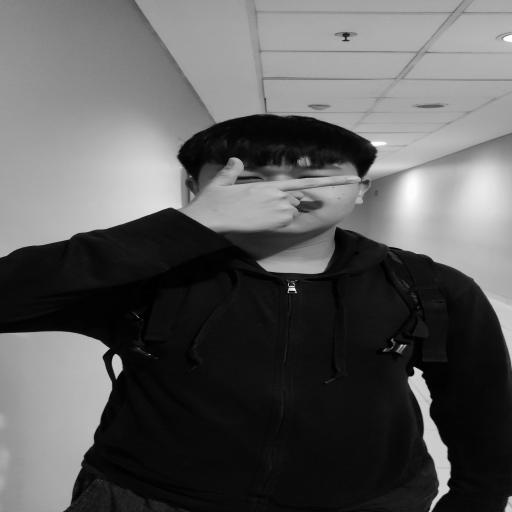next: (165, 151, 383, 240)
